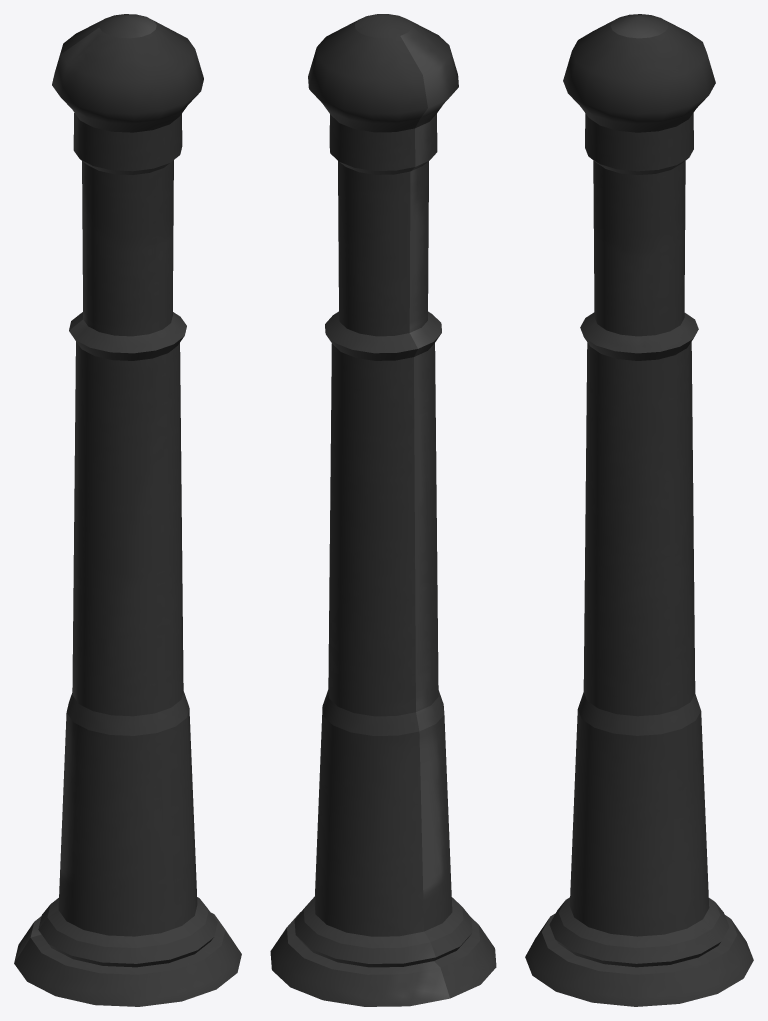
The model's file is post.fbx.
3 renders of one model, left to right at view 1: azimuth 30°, elevation 25°; view 2: azimuth 150°, elevation 25°; view 3: azimuth 270°, elevation 25°, orthographic.
Parts seen in each view (by area): view 1: post13_0_1; view 2: post13_0_1; view 3: post13_0_1.
Boxes of the visible parts, bbox=[...] form: post13_0_1: bbox=[14, 14, 241, 1006]; post13_0_1: bbox=[270, 14, 496, 1006]; post13_0_1: bbox=[525, 14, 753, 1006].
Size of the model in its own units: 44.43 by 202 by 44.43.
